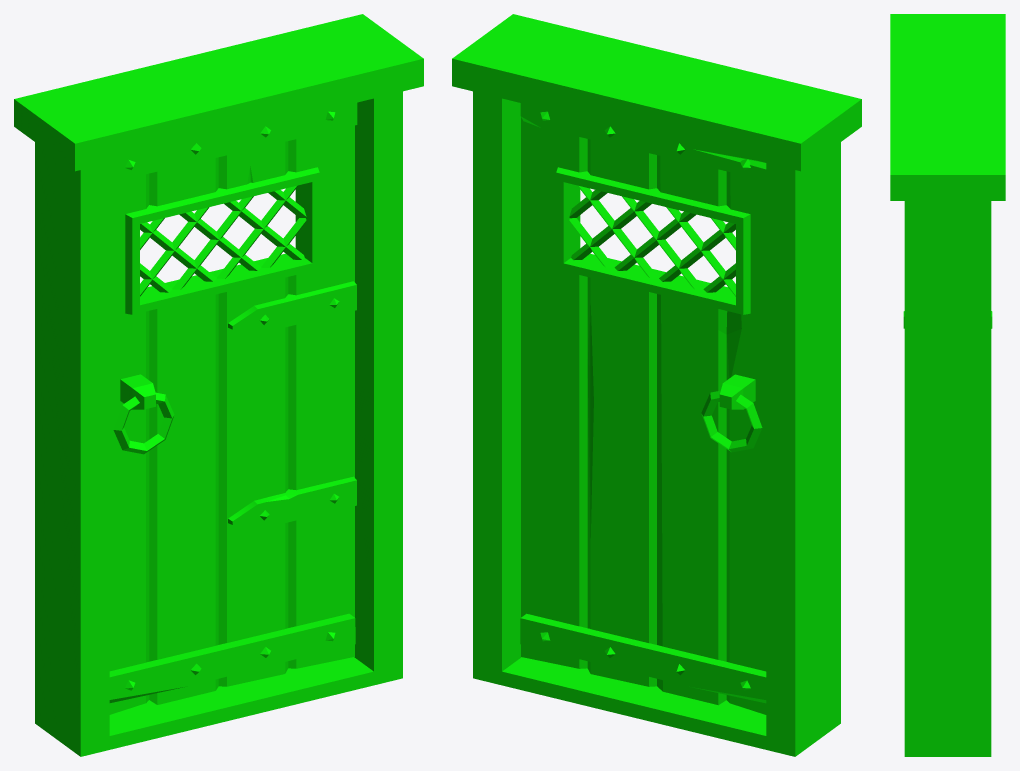
File: SM_Door_Single_D_Regular_Fantasy.fbx
The picture shows the model from 3 angles, left to right: view 1: azimuth 30°, elevation 25°; view 2: azimuth 150°, elevation 25°; view 3: azimuth 270°, elevation 25°; orthographic projection. The views are drawn at different scales.
Parts seen in each view (by area): view 1: door-single-d-regular-fantasy-door, door-single-d-regular-fantasy-frame; view 2: door-single-d-regular-fantasy-door, door-single-d-regular-fantasy-frame; view 3: door-single-d-regular-fantasy-frame.
Part boxes in pixels (x1,y1,x2,y2): door-single-d-regular-fantasy-door: [109, 102, 357, 714]; door-single-d-regular-fantasy-frame: [14, 14, 423, 756]; door-single-d-regular-fantasy-door: [520, 103, 766, 714]; door-single-d-regular-fantasy-frame: [452, 14, 861, 756]; door-single-d-regular-fantasy-frame: [890, 14, 1005, 756].
Size of the model in its own units: 1.32 by 2.25 by 0.4.
